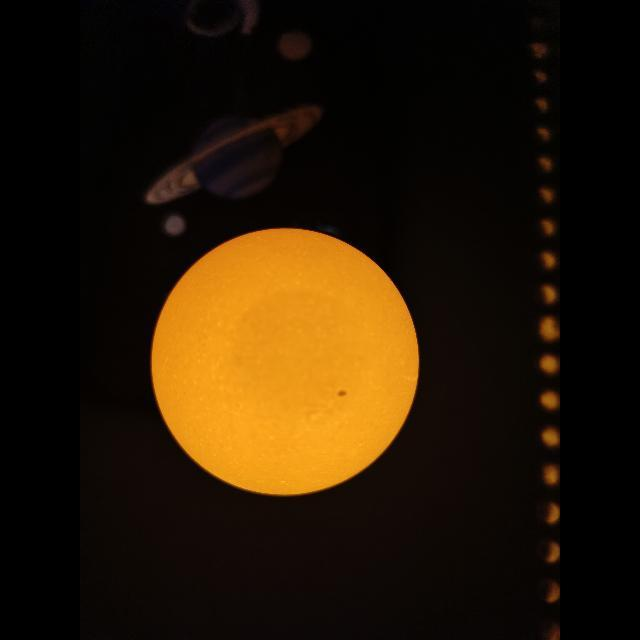AA - Premium: (151, 229, 419, 495)
